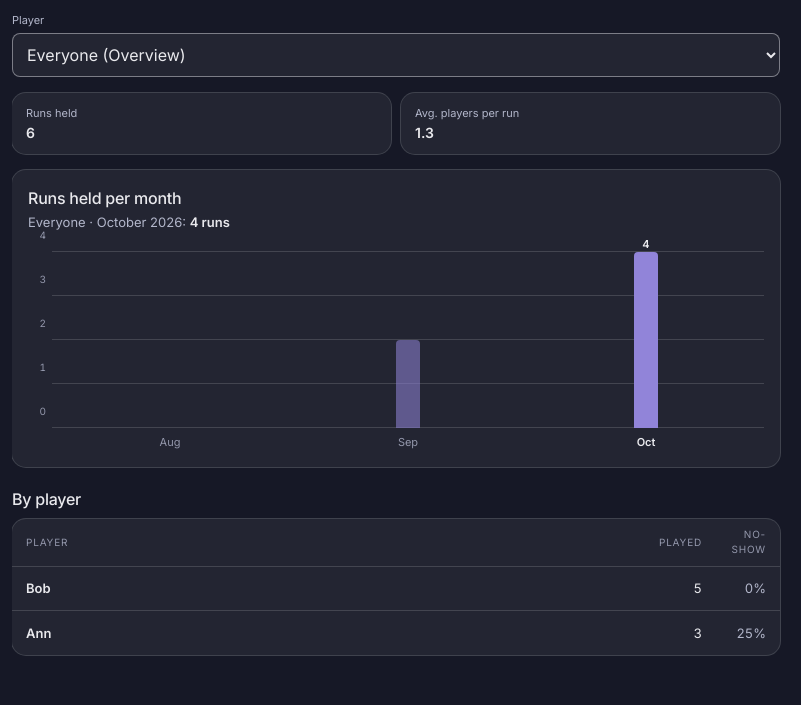
StatsView player › goes back to the overview
Select "Ann" in the dropdown: (396, 55) [12,33,780,77]
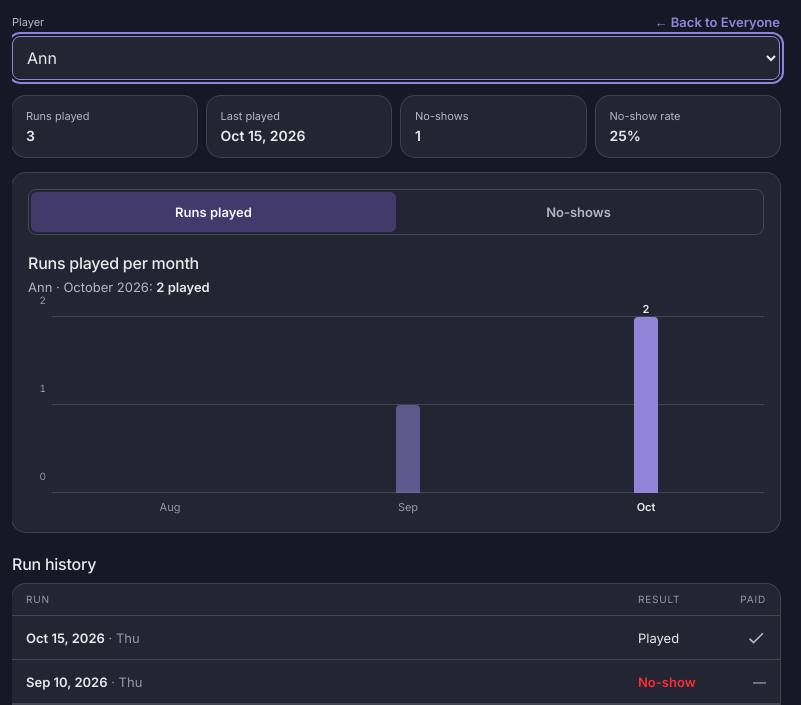
Click the button "← Back to Everyone": (717, 22) [654,12,780,32]
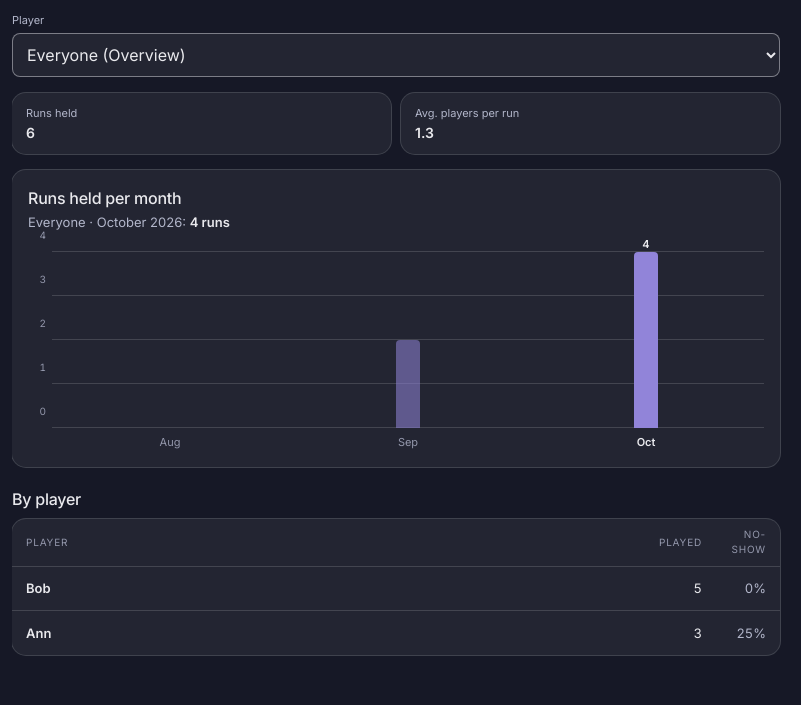
Expected: the text "Runs held" is shown, [26,106,77,120]
